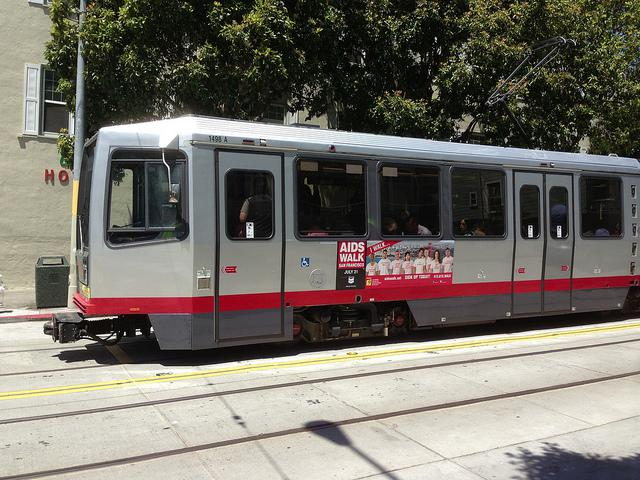Train: (40, 115, 640, 381)
